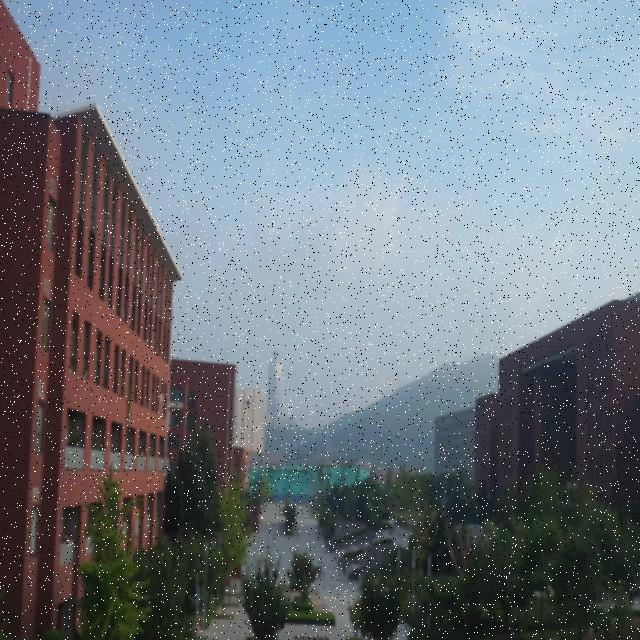UAV: (244, 399, 254, 408)
